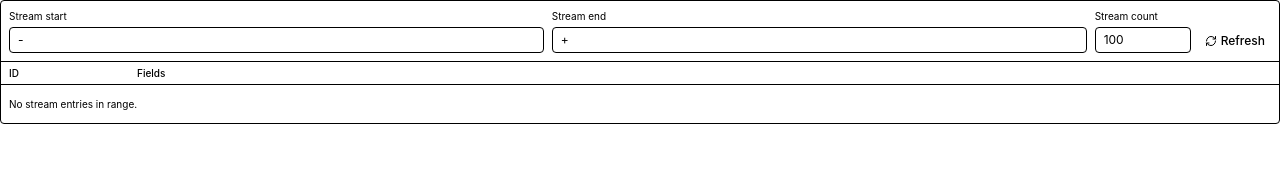
KvStreamReaderPanel a11y — invalid/describedby alignment (#1333) › does not tie the count field to a non-field stream error (valid limit + backend failure)
Click the button: point(1235, 41) [1199, 29, 1271, 53]
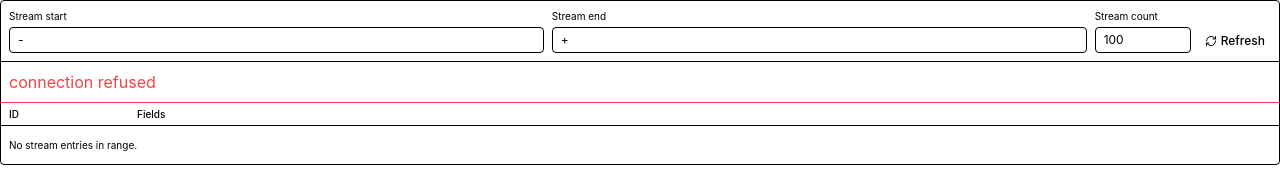
Result: the message reads "connection refused" at [9, 72, 156, 92]
